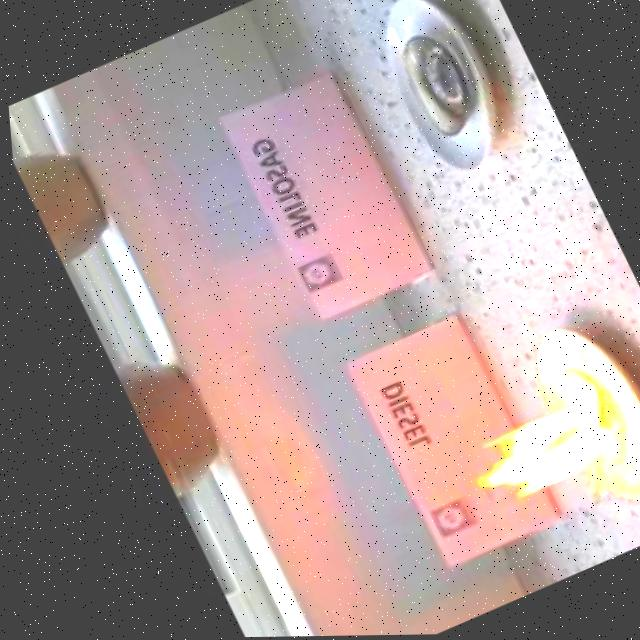Fire: (435, 372, 631, 519)
